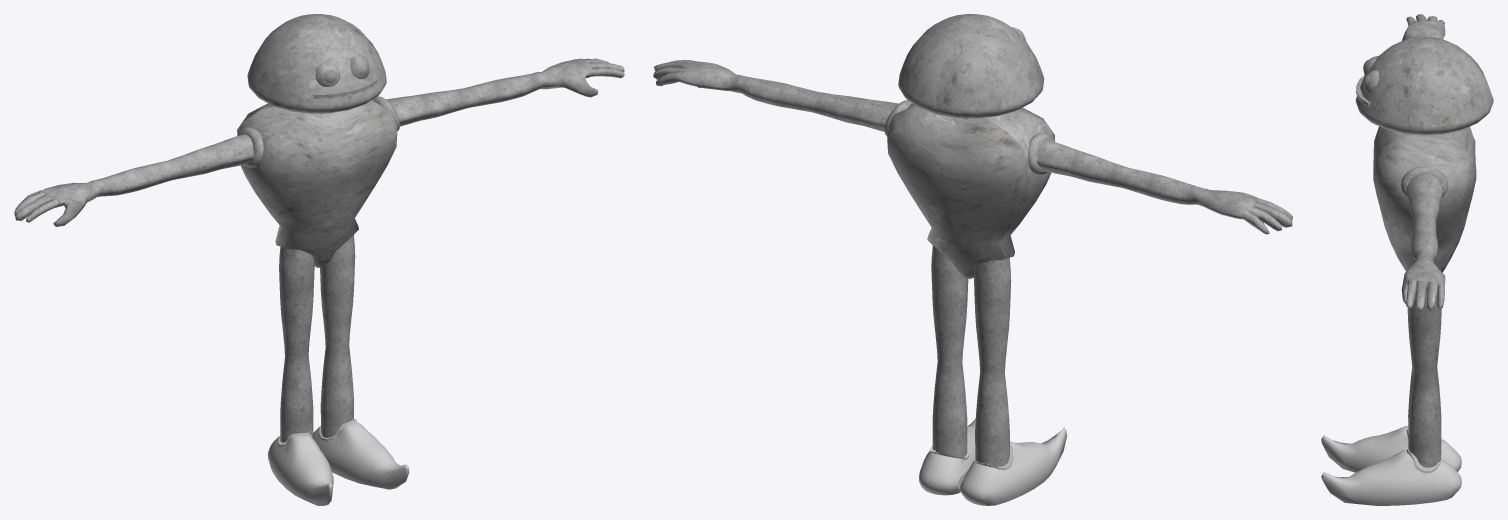
File: Glitch.fbx
3 renders of one model, left to right at view 1: azimuth 30°, elevation 25°; view 2: azimuth 150°, elevation 25°; view 3: azimuth 270°, elevation 25°, orthographic. The views are drawn at different scales.
Parts seen in each view (by area): view 1: body, head, arm_left, leg_left, leg_right, arm_right, foot_right, foot_left; view 2: body, head, leg_left, arm_left, leg_right, arm_right, foot_left, foot_right; view 3: head, body, foot_right, leg_right, arm_right, foot_left, arm_left, shoulder_right, leg_left, eyeball.
Part boxes in pixels (x1,y1,x2,y2): body: (237, 99, 397, 267); head: (247, 14, 386, 113); arm_left: (14, 134, 253, 226); leg_left: (279, 246, 314, 442); leg_right: (320, 235, 355, 437); arm_right: (386, 58, 624, 126); foot_right: (313, 419, 409, 489); foot_left: (267, 432, 333, 505); body: (887, 103, 1054, 278); head: (898, 14, 1044, 118); leg_left: (974, 258, 1011, 466); arm_left: (1037, 139, 1292, 234); leg_right: (931, 245, 968, 457); arm_right: (653, 60, 898, 131); foot_left: (959, 427, 1067, 505); foot_right: (919, 419, 975, 495); head: (1355, 36, 1493, 135); body: (1373, 126, 1476, 272); foot_right: (1321, 448, 1461, 505); leg_right: (1407, 270, 1441, 467); arm_right: (1401, 173, 1445, 311); foot_left: (1321, 426, 1461, 472); arm_left: (1402, 14, 1445, 40); shoulder_right: (1401, 166, 1447, 197); leg_left: (1408, 367, 1441, 431); eyeball: (1364, 69, 1379, 92).
Size of the model in its own units: 485 by 341 by 121.
